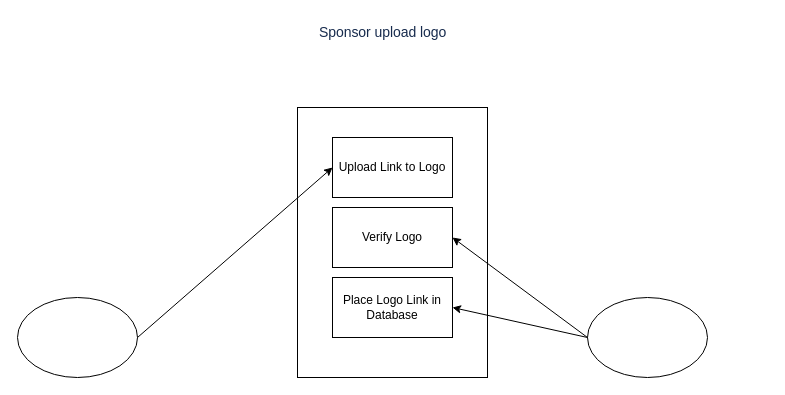
The diagram is 785 pixels wide and 395 high, and some of its shapes have lost their labels. The shapes that lost their labels are listed below. From the top down, each one's box as (x1, y1, x2, y2) in pixels, then its label:
(16, 296, 138, 378): Sponser
(586, 296, 708, 378): Backend
